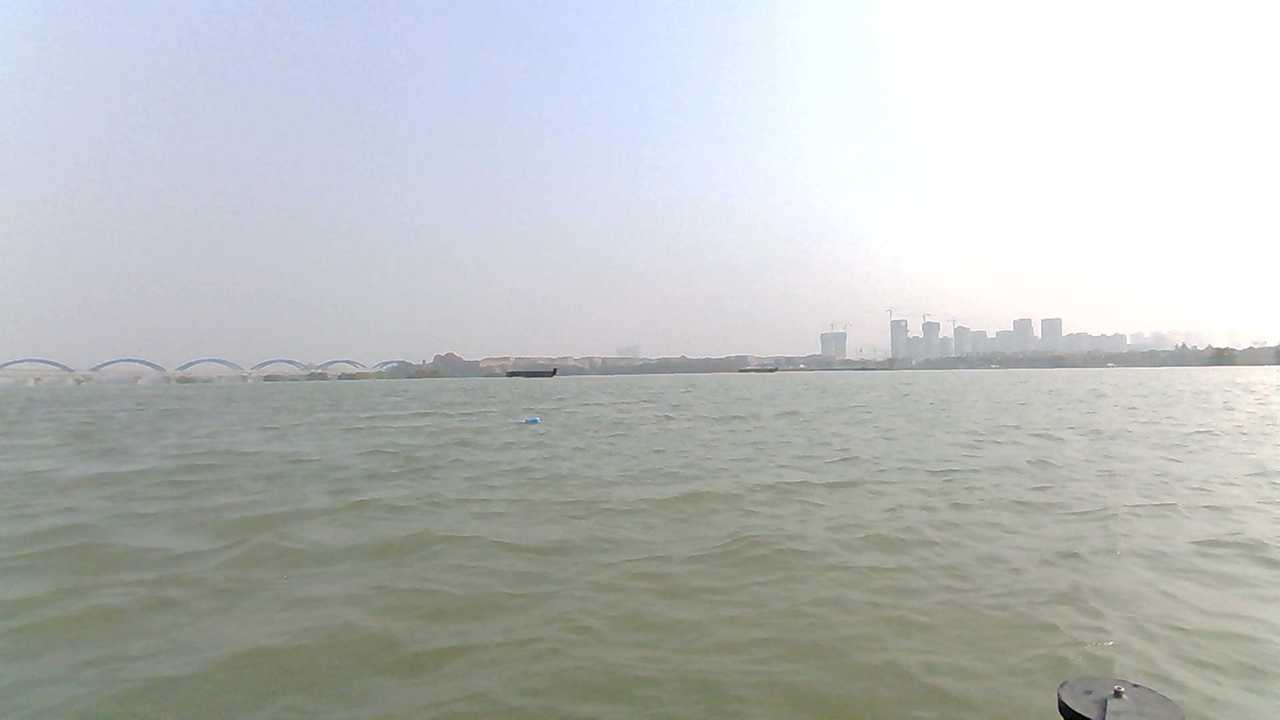bottle: (518, 415, 547, 429)
